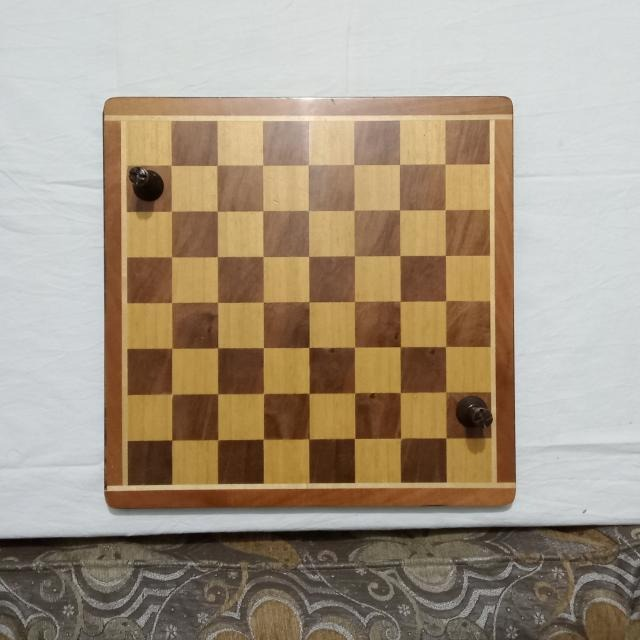black-rook: (126, 164, 165, 203), (457, 395, 493, 430)
